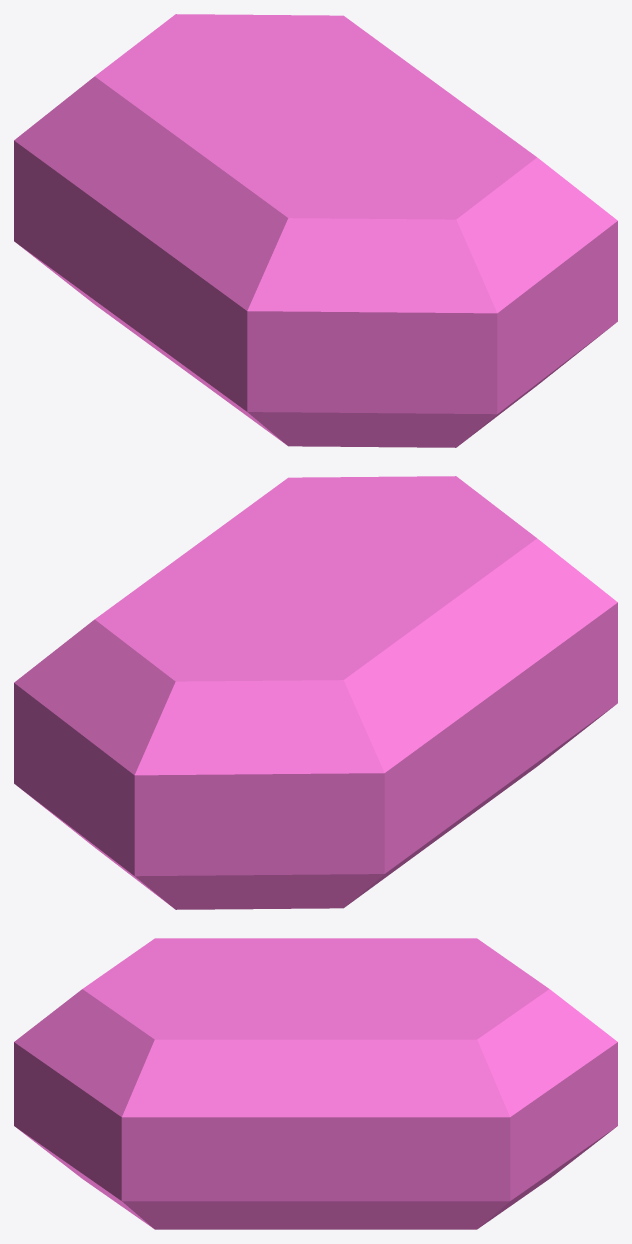
Rendered from Crystal_Pink_C.fbx.
The picture shows the model from 3 angles, top to bottom: view 1: azimuth 30°, elevation 25°; view 2: azimuth 150°, elevation 25°; view 3: azimuth 270°, elevation 25°; orthographic projection. The views are drawn at different scales.
Parts seen in each view (by area): view 1: Crystal_Pink_C; view 2: Crystal_Pink_C; view 3: Crystal_Pink_C.
Boxes of the visible parts, bbox=[...] form: Crystal_Pink_C: bbox=[14, 14, 617, 447]; Crystal_Pink_C: bbox=[14, 476, 617, 909]; Crystal_Pink_C: bbox=[14, 938, 617, 1229].
Bounding box in the file's own units: 85.49 × 50.3 × 145.
